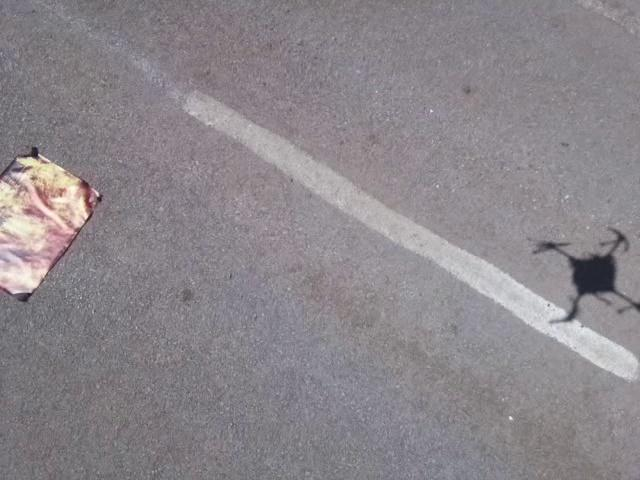fire-poster: (0, 144, 103, 303)
